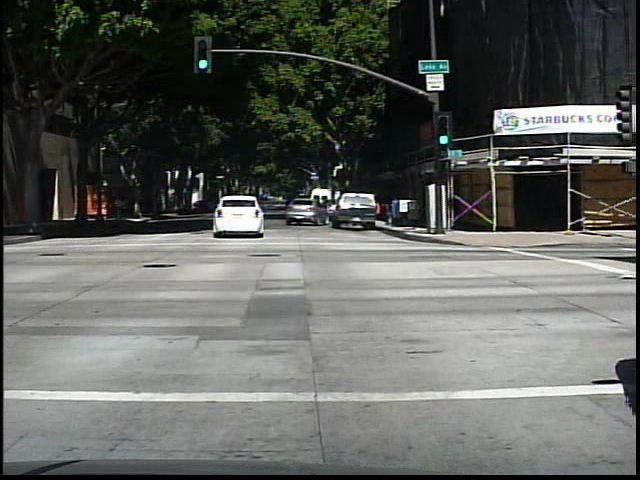person: (111, 193, 127, 222)
